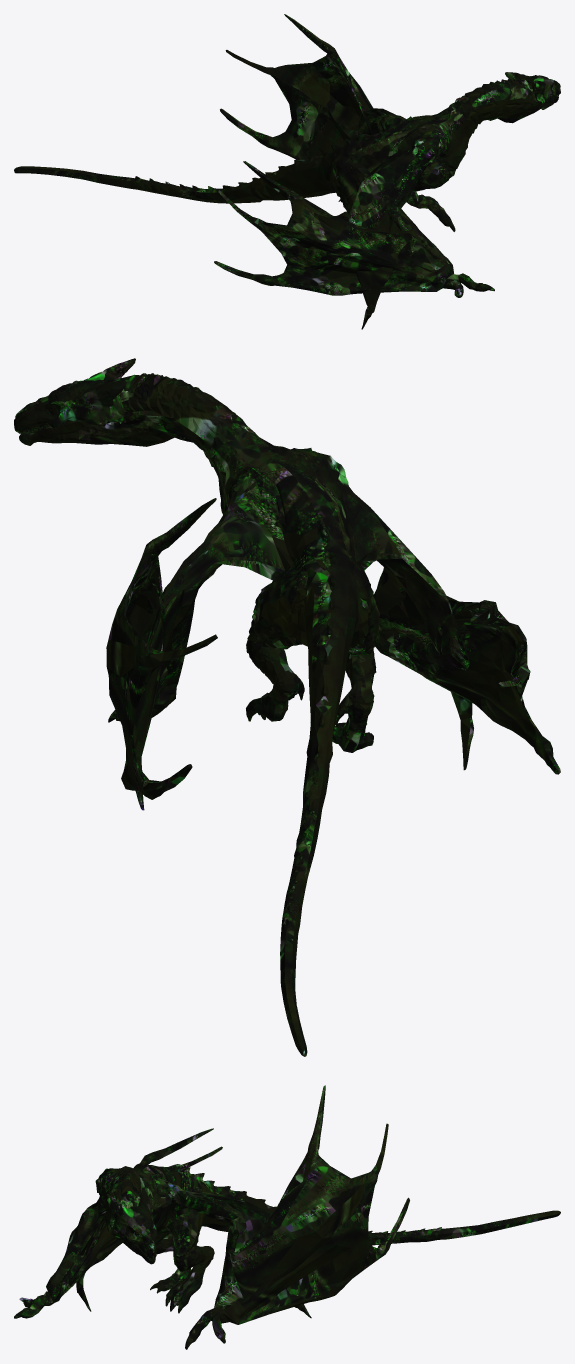
Rendered from frame_0032_uv.obj.
The picture shows the model from 3 angles, top to bottom: view 1: azimuth 30°, elevation 25°; view 2: azimuth 150°, elevation 25°; view 3: azimuth 270°, elevation 25°; orthographic projection. The views are drawn at different scales.
Parts seen in each view (by area): view 1: pMesh1; view 2: pMesh1; view 3: pMesh1.
Part boxes in pixels (box(x1,y1,x2,y2)): pMesh1: box(14, 14, 560, 329); pMesh1: box(14, 358, 560, 1056); pMesh1: box(14, 1085, 560, 1349).
Size of the model in its own units: 1.5 by 0.9179 by 1.87.
